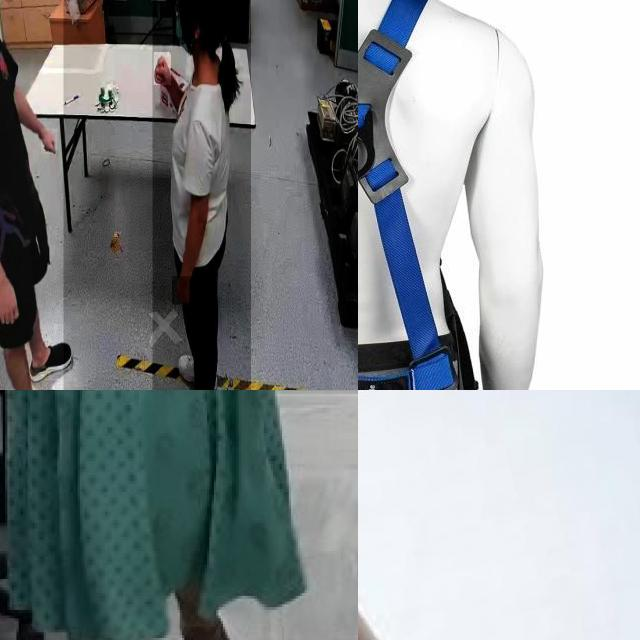Harness: (358, 0, 471, 390)
face_mask: (172, 0, 195, 44)
hand_noglove: (0, 280, 19, 326), (154, 52, 172, 86), (172, 276, 190, 305), (41, 129, 58, 155)
person: (152, 0, 251, 390), (0, 0, 64, 390)
shoes: (28, 338, 73, 386)
